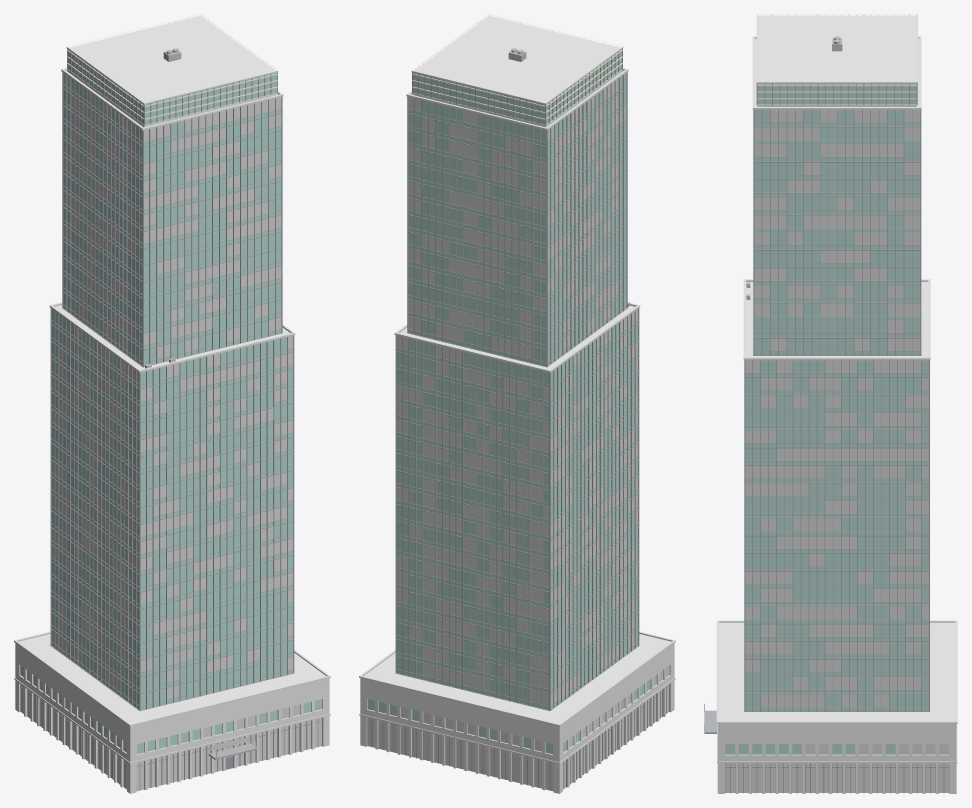
The model's file is tower_hero520.glb.
3 views of the same model, side by side, from view 1: azimuth 30°, elevation 25°; view 2: azimuth 150°, elevation 25°; view 3: azimuth 270°, elevation 25° (orthographic). The views are drawn at different scales.
Visible parts, largest first — view 1: tower_hero520_Glass, tower_hero520_Frames, tower_hero520_WindowsLit, tower_hero520_Roof, tower_hero520_Walls2, tower_hero520_Trim, tower_hero520_Neon; view 2: tower_hero520_Glass, tower_hero520_Frames, tower_hero520_WindowsLit, tower_hero520_Roof, tower_hero520_Walls2, tower_hero520_Trim, tower_hero520_Neon; view 3: tower_hero520_Glass, tower_hero520_WindowsLit, tower_hero520_Frames, tower_hero520_Roof, tower_hero520_Walls2, tower_hero520_Trim, tower_hero520_Neon.
Boxes of the visible parts, <box> form: tower_hero520_Glass: <box>20,49,322,754</box>; tower_hero520_Frames: <box>20,17,322,790</box>; tower_hero520_WindowsLit: <box>21,73,321,791</box>; tower_hero520_Roof: <box>19,15,325,723</box>; tower_hero520_Walls2: <box>15,69,329,793</box>; tower_hero520_Trim: <box>14,14,330,764</box>; tower_hero520_Neon: <box>67,50,277,119</box>; tower_hero520_Glass: <box>367,49,650,754</box>; tower_hero520_Frames: <box>367,15,669,790</box>; tower_hero520_WindowsLit: <box>368,79,669,791</box>; tower_hero520_Roof: <box>364,16,670,723</box>; tower_hero520_Walls2: <box>360,69,674,793</box>; tower_hero520_Trim: <box>359,14,675,764</box>; tower_hero520_Neon: <box>412,50,622,119</box>; tower_hero520_Glass: <box>725,83,928,754</box>; tower_hero520_WindowsLit: <box>725,109,948,792</box>; tower_hero520_Frames: <box>725,15,949,793</box>; tower_hero520_Roof: <box>719,15,955,721</box>; tower_hero520_Walls2: <box>717,105,956,793</box>; tower_hero520_Trim: <box>716,14,957,763</box>; tower_hero520_Neon: <box>757,84,916,99</box>.
Size of the model in its own units: 161 by 520 by 170.
